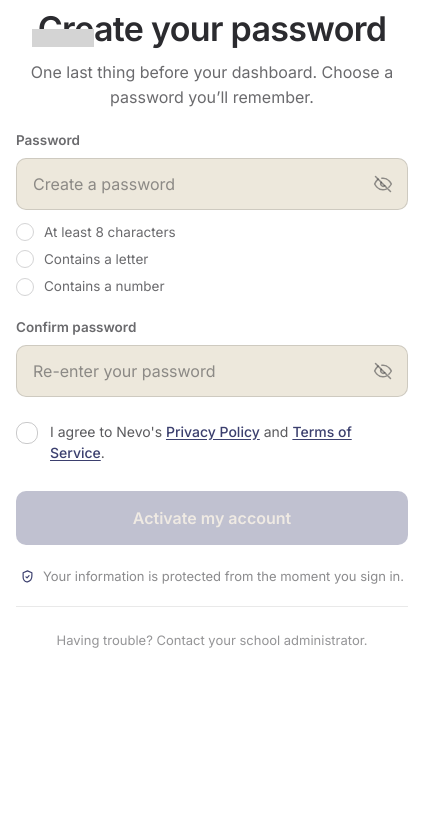
Test: an invite that no longer matches the account › leaves any other refusal of the link on the form, as before
Type "lessons42" into the password field labelled "Password". click: (199, 184)
box: [33,159,365,209]
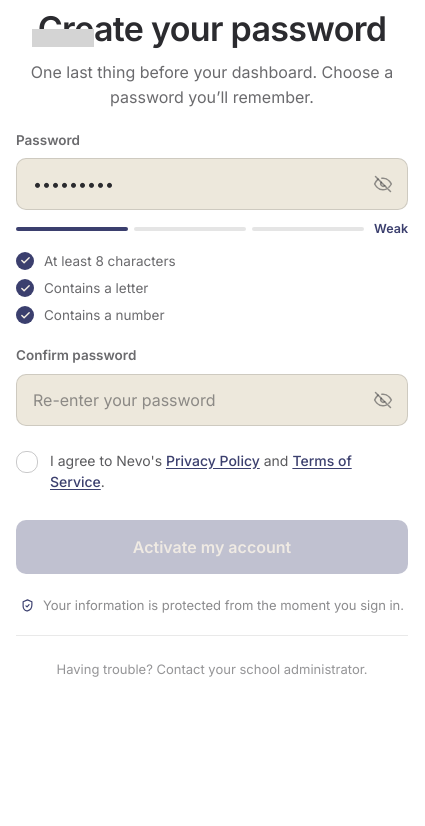
Type "lessons42" into the password field labelled "Confirm password". click: (199, 400)
box: [33,375,365,425]
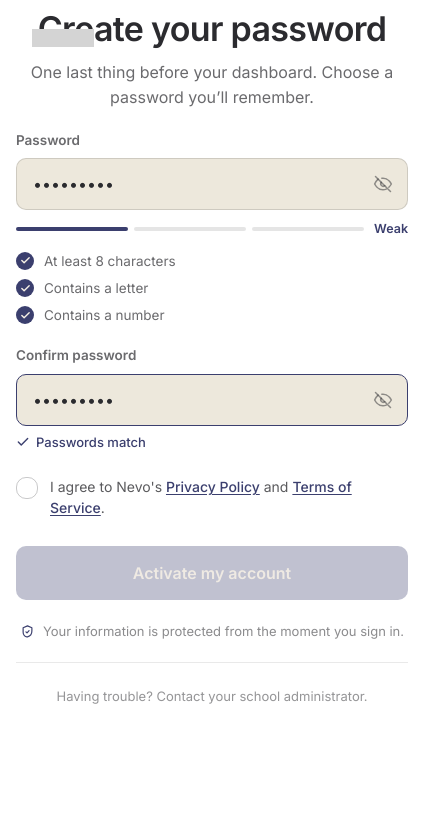
Click the checkbox. click: (212, 497)
box: [16,476,408,518]
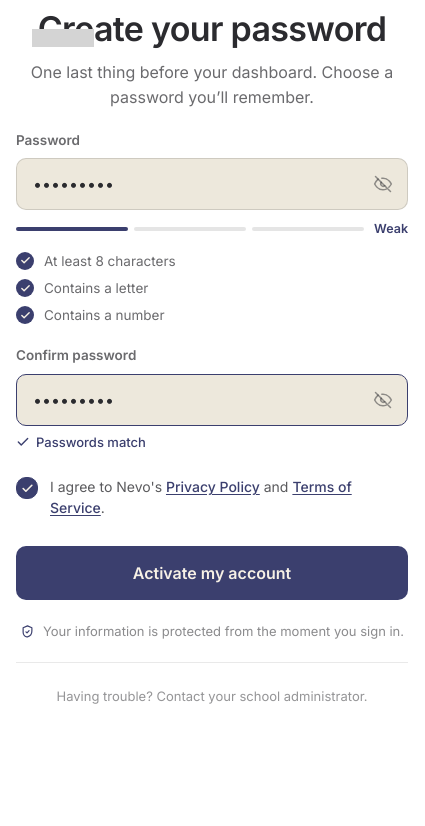
Click the button "Activate my account". click: (212, 573)
box: [16,546,408,600]
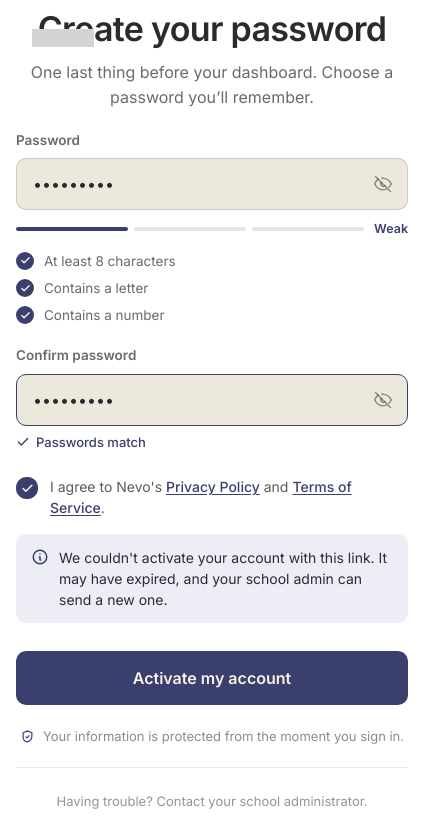
Expected: the button "Activate my account" is shown, [16,651,408,705]
Expected: the text "couldn't activate your account" is shown, [59,549,387,608]
